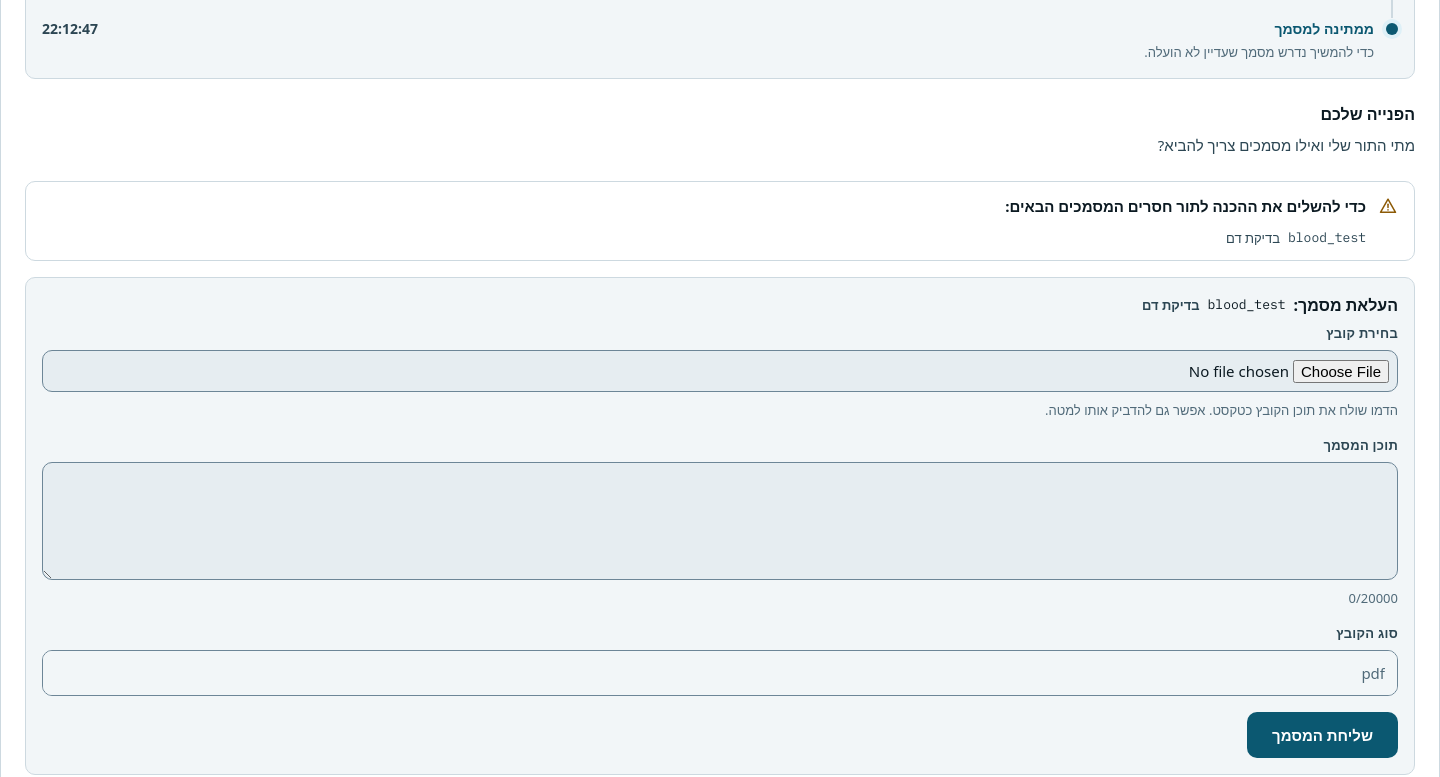
it: RequestDetail: needs_document (D24) › keeps the pasted content and shows a neutral notice when the document fails validation (committed self-loop, D24/D25)
(page scrolled)
Step 1. Type "תוצאות בדיקת דם" into the text box labelled "תוכן המסמך" → {"x": 720, "y": 521}, box [43,463,1397,579]
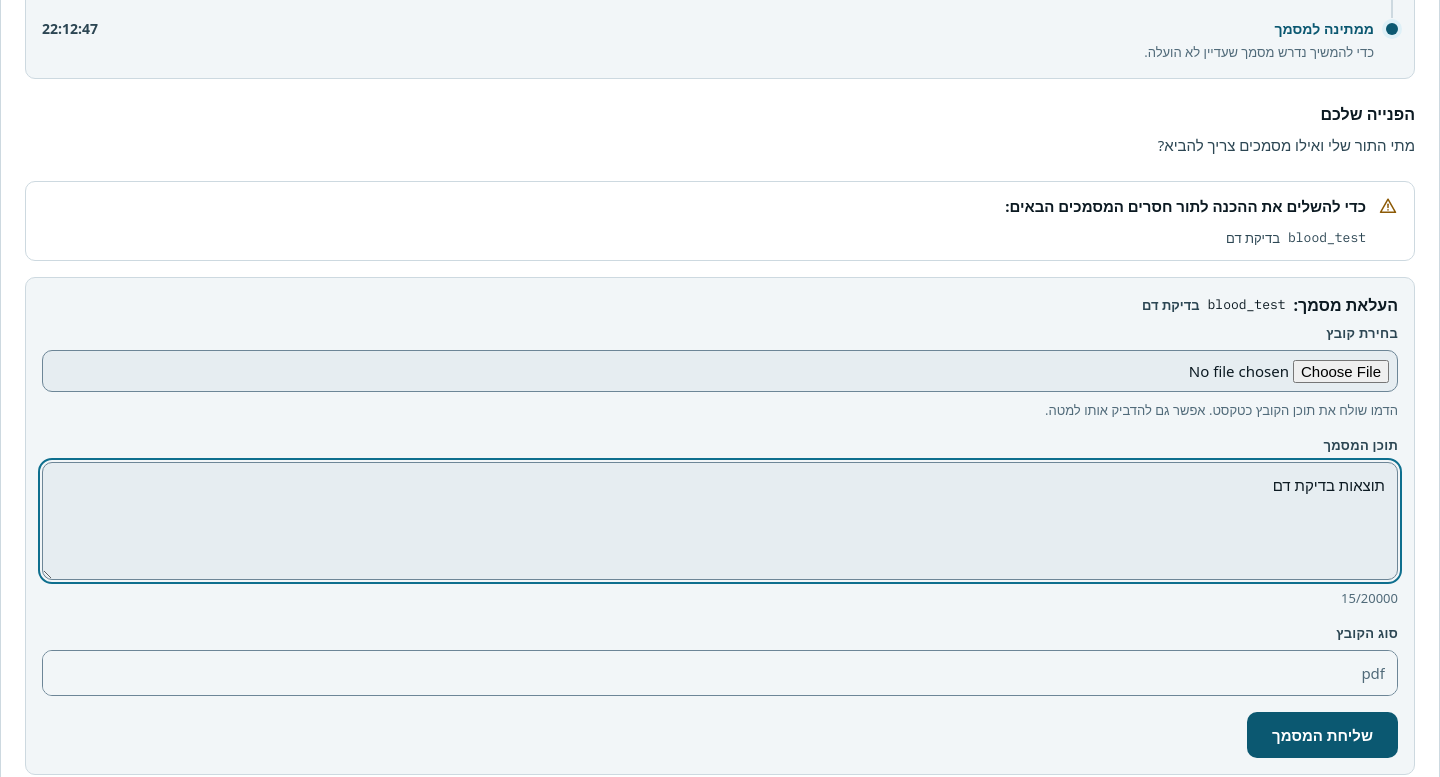
Step 2. Click the button "שליחת המסמך" → {"x": 1322, "y": 735}, box [1247,712,1398,758]
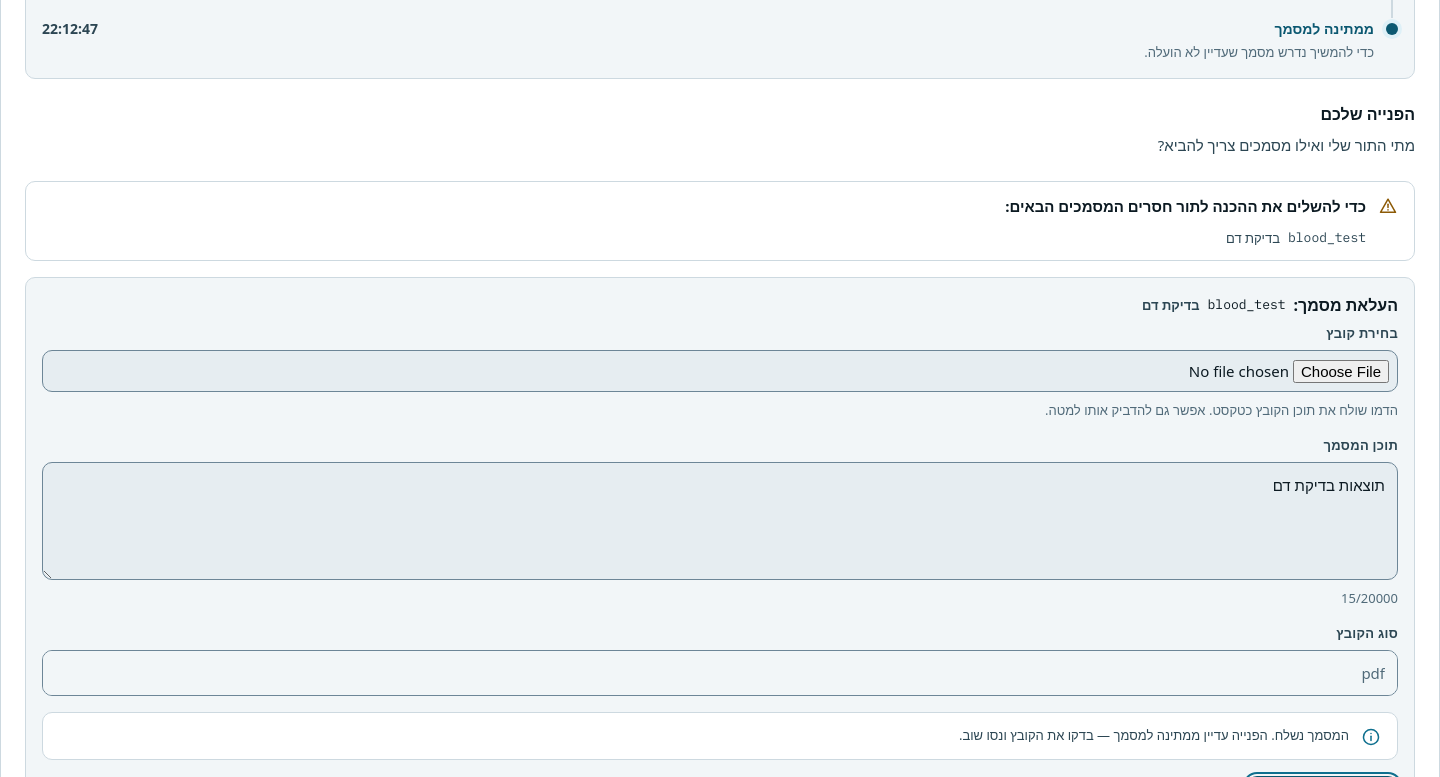
Expected: the text "כדי להשלים את ההכנה לתור חסרים המסמכים הבאים:" is shown, [1005,194,1366,218]
Expected: the text "המסמך נשלח. הפנייה עדיין ממתינה למסמך — בדקו את הקובץ ונסו שוב." is shown, [959,725,1349,745]
